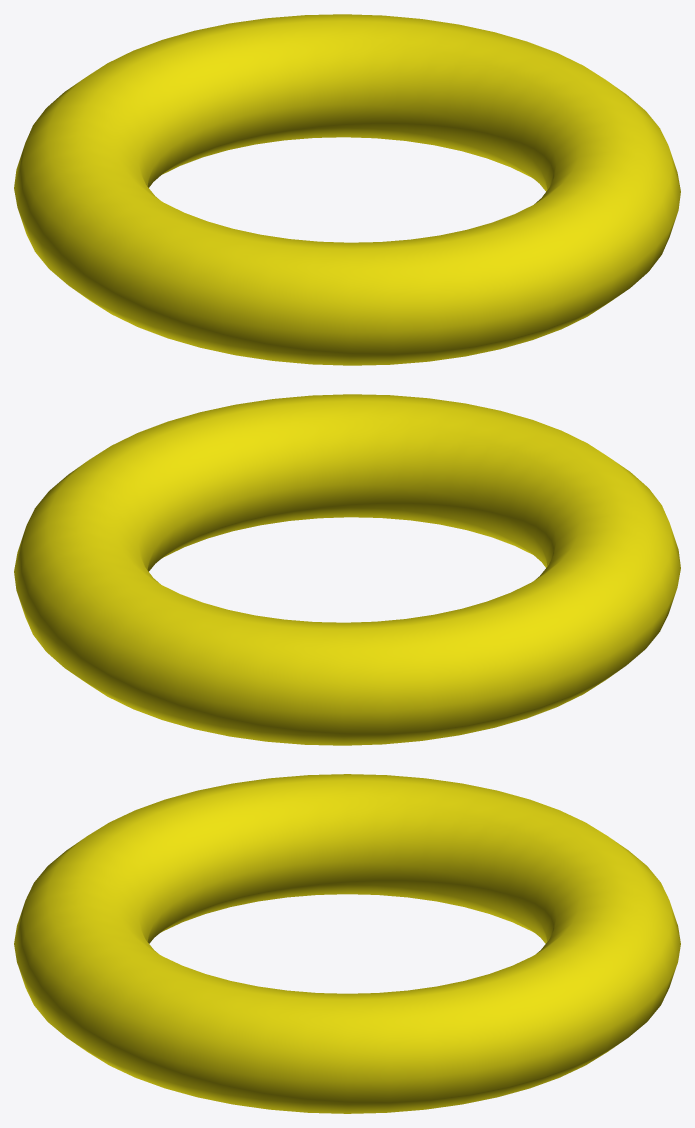
Rendered from hanoi_biggest.glb.
3 views of the same model, one above another, from view 1: azimuth 30°, elevation 25°; view 2: azimuth 150°, elevation 25°; view 3: azimuth 270°, elevation 25° (orthographic).
Visible parts, largest first — view 1: Torus; view 2: Torus; view 3: Torus.
Boxes of the visible parts, x1,y1,x2,y2 form: Torus: (14,14,680,365); Torus: (14,394,680,745); Torus: (14,774,680,1113).
Bounding box in the file's own units: 1.36 × 0.2478 × 1.4.
